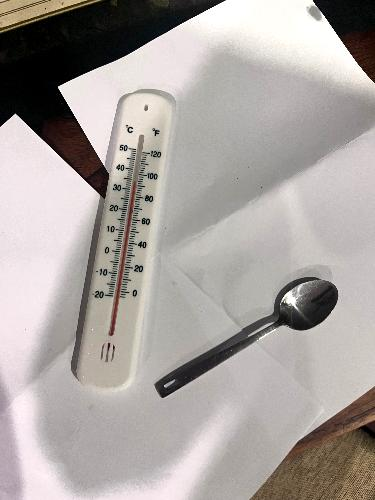thermo: (68, 87, 182, 400)
